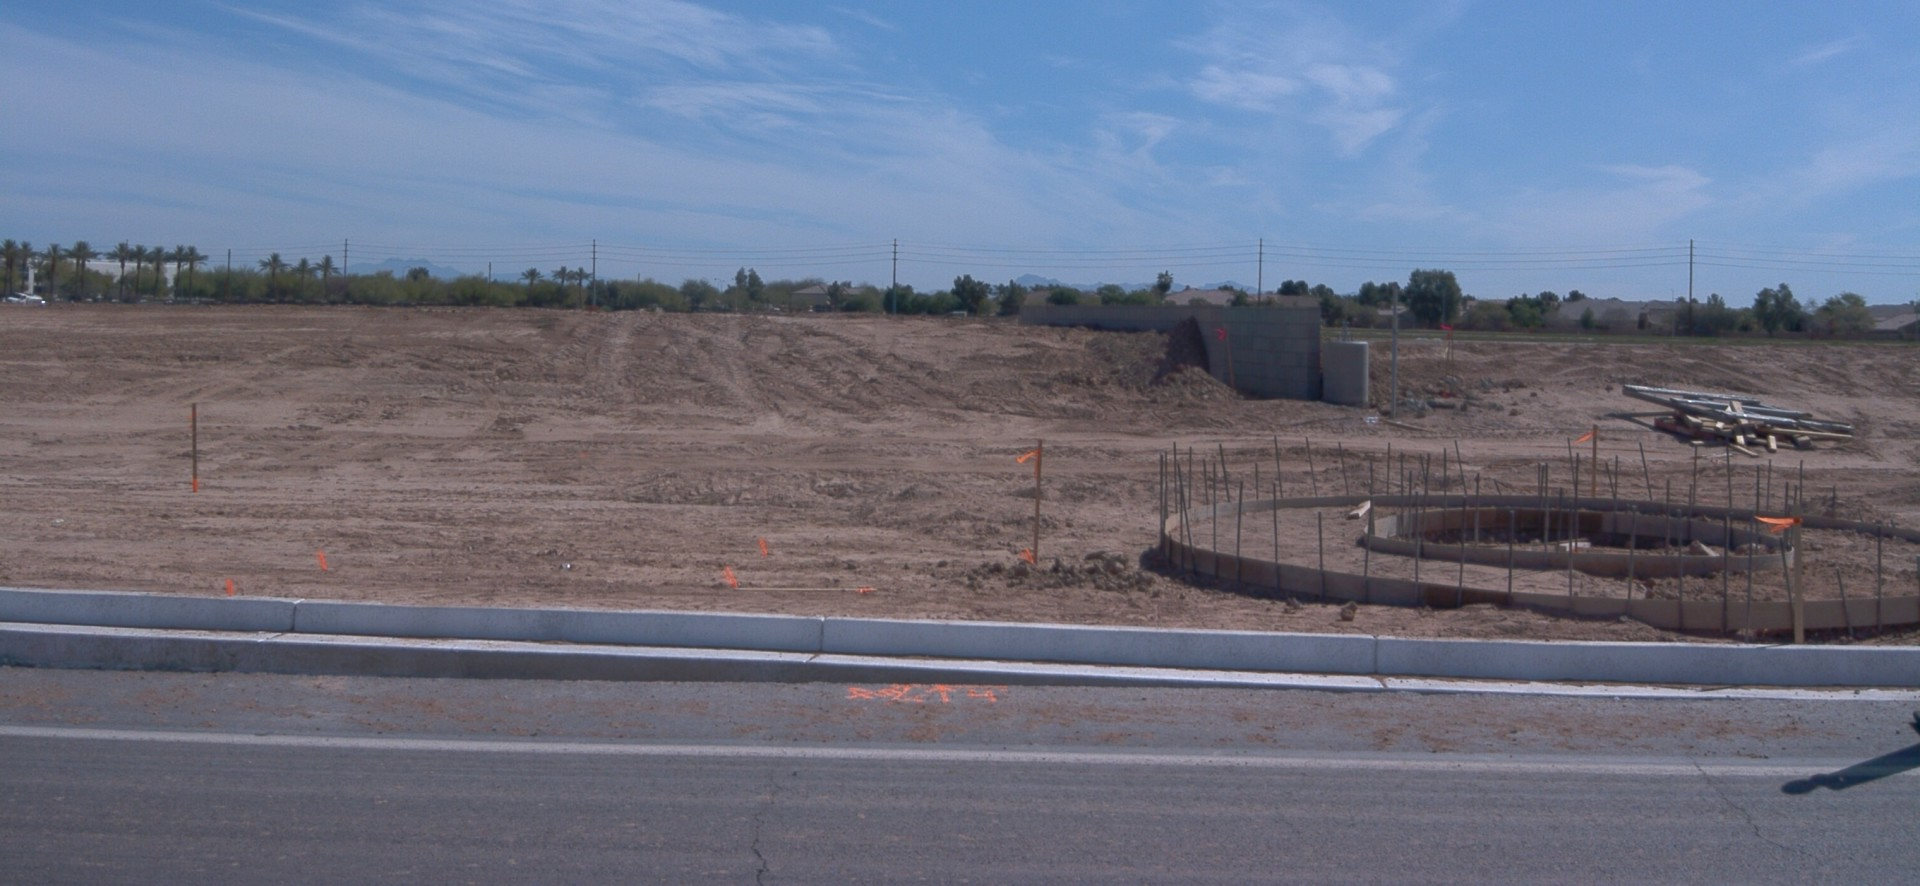TYPE_VEHICLE: (2, 289, 43, 305), (2, 289, 43, 305), (2, 289, 43, 305), (2, 289, 43, 305)
